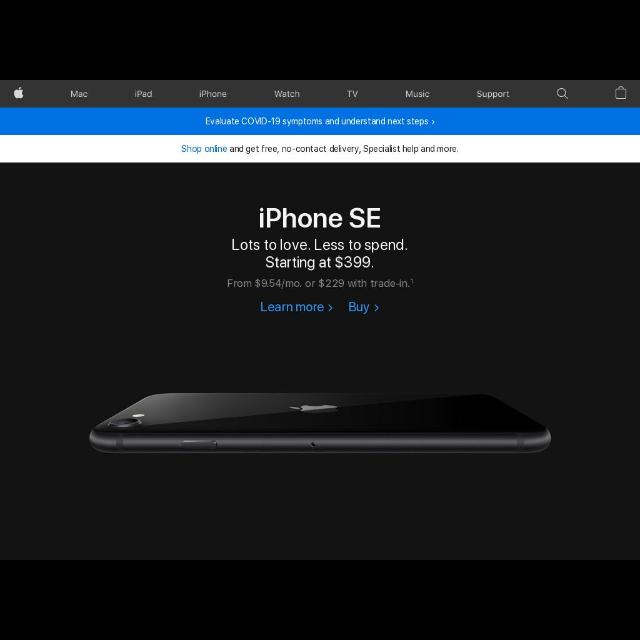backgroundimage: (1, 163, 640, 559)
icon: (556, 86, 570, 100), (12, 86, 26, 100), (616, 87, 628, 99), (430, 120, 436, 126)
link: (259, 302, 333, 314), (349, 300, 381, 316), (181, 144, 227, 152)
text: (230, 234, 408, 272), (179, 143, 461, 155), (204, 114, 428, 128), (255, 206, 382, 230), (227, 276, 416, 290), (198, 88, 228, 100), (477, 89, 511, 98), (272, 89, 302, 98), (68, 88, 90, 100), (406, 90, 430, 98), (134, 90, 154, 98), (347, 89, 359, 98)
toolbar: (2, 82, 640, 106)
